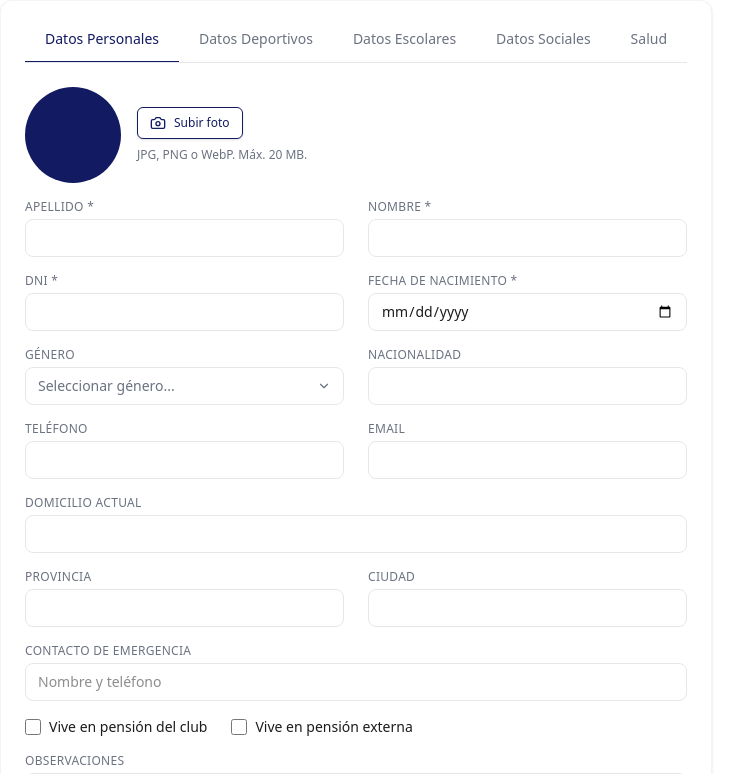
Test: DeportistaForm — mode=create › clicar en "Deportivo" cambia la pestaña activa
Click the tab "Datos Deportivos". click: (256, 40)
box: [179,17,333,63]
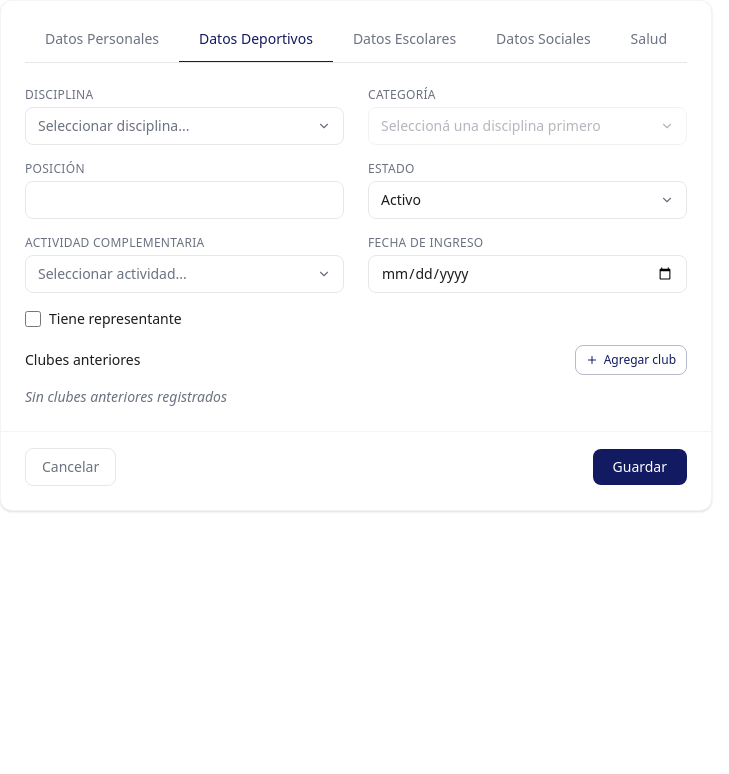
Result: the button labelled "Seleccionar disciplina..." is shown at [25,107,344,145]
Result: the label labelled "Apellido *" is gone
